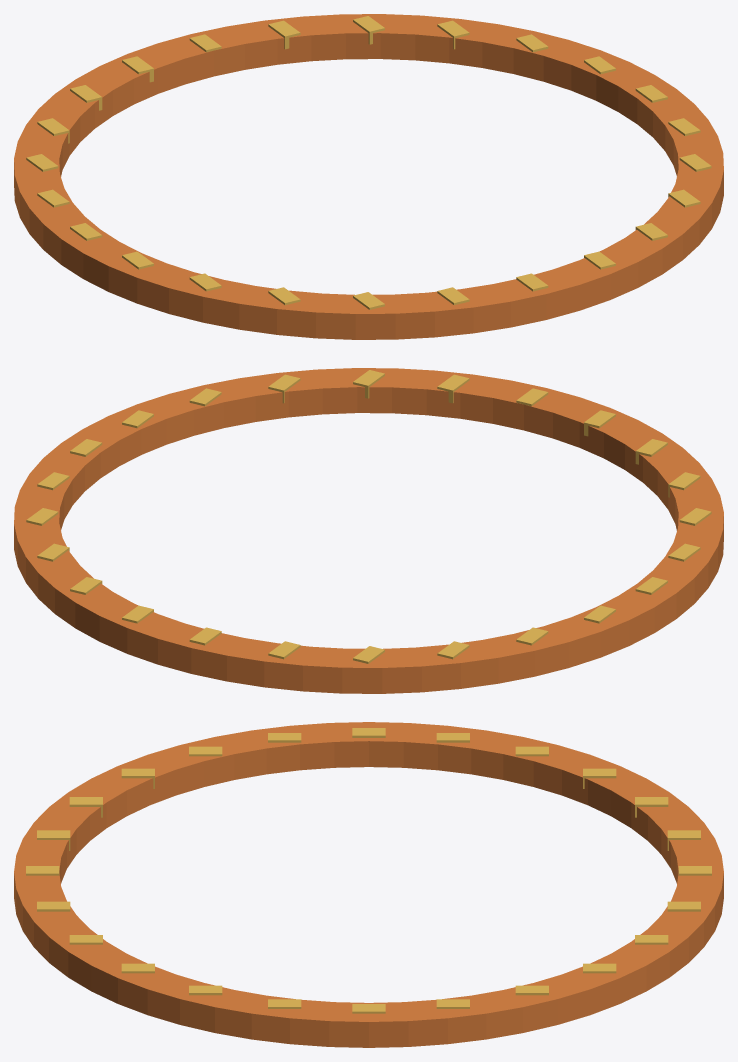
File: 24_L76_EdgeCurrentDistributionRing.fbx
3 views of the same model, one above another, from view 1: azimuth 30°, elevation 25°; view 2: azimuth 150°, elevation 25°; view 3: azimuth 270°, elevation 25° (orthographic).
Visible parts, largest first — view 1: EdgeCurrentDistributionRing; view 2: EdgeCurrentDistributionRing; view 3: EdgeCurrentDistributionRing.
Boxes of the visible parts, x1,y1,x2,y2 form: EdgeCurrentDistributionRing: (14,14,723,339); EdgeCurrentDistributionRing: (14,368,723,693); EdgeCurrentDistributionRing: (14,722,723,1047).
Size of the model in its own units: 298 by 13 by 298.
